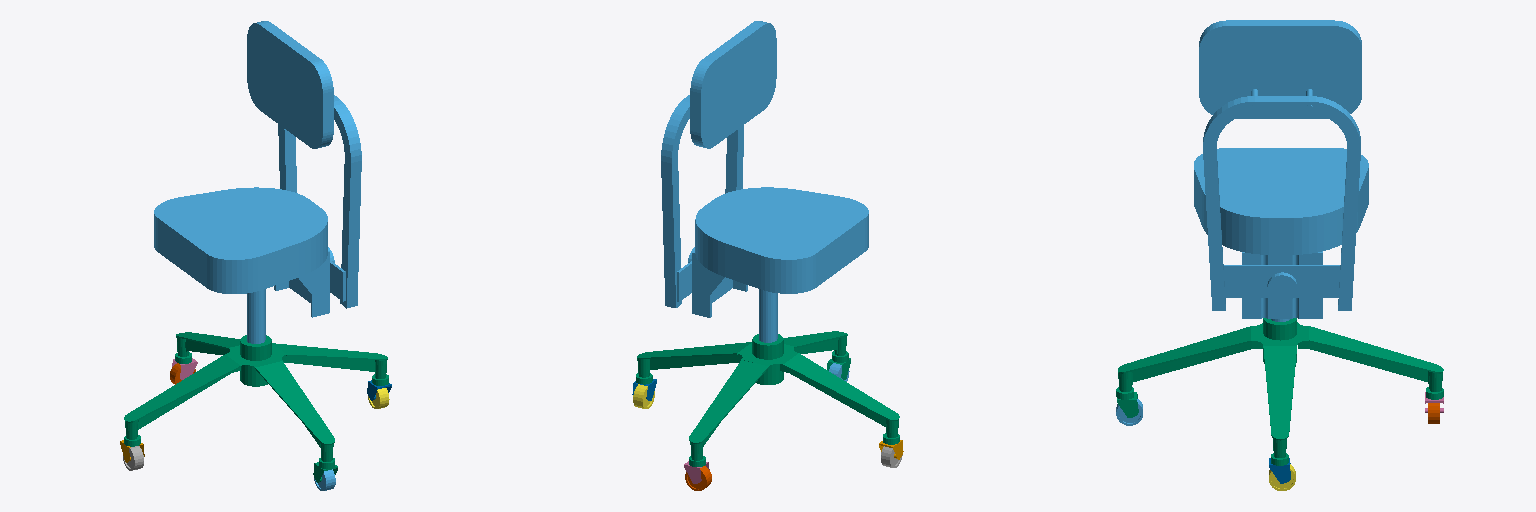
URDF robot description (partnet_c2220851bf50eda931ecc34700496180):
<?xml version="1.0" ?>
<robot name="partnet_c2220851bf50eda931ecc34700496180">
	<link name="base"/>
	<link name="link_0">
		<visual name="wheel-24">
			<origin xyz="-0.5566435548484837 0.7812046901411421 0"/>
			<geometry>
				<mesh filename="textured_objs/original-16.obj"/>
			</geometry>
		</visual>
		<collision>
			<origin xyz="-0.5566435548484837 0.7812046901411421 0"/>
			<geometry>
				<mesh filename="textured_objs/original-16.obj"/>
			</geometry>
		</collision>
	</link>
	<joint name="joint_0" type="continuous">
		<origin xyz="-0.006785945151516315 -0.7812046901411421 -0.0630275"/>
		<axis xyz="0 0 1"/>
		<child link="link_0"/>
		<parent link="link_1"/>
	</joint>
	<link name="link_1">
		<visual name="brake-25">
			<origin xyz="-0.5634295 0 -0.0630275"/>
			<geometry>
				<mesh filename="textured_objs/original-15.obj"/>
			</geometry>
		</visual>
		<collision>
			<origin xyz="-0.5634295 0 -0.0630275"/>
			<geometry>
				<mesh filename="textured_objs/original-15.obj"/>
			</geometry>
		</collision>
	</link>
	<joint name="joint_1" type="continuous">
		<origin xyz="0.5634295 0 0.0630275"/>
		<axis xyz="0 1 0"/>
		<child link="link_1"/>
		<parent link="link_9"/>
	</joint>
	<link name="link_2">
		<visual name="wheel-22">
			<origin xyz="0.0015374451515163413 0.7812046901411421 0"/>
			<geometry>
				<mesh filename="textured_objs/original-13.obj"/>
			</geometry>
		</visual>
		<collision>
			<origin xyz="0.0015374451515163413 0.7812046901411421 0"/>
			<geometry>
				<mesh filename="textured_objs/original-13.obj"/>
			</geometry>
		</collision>
	</link>
	<joint name="joint_2" type="continuous">
		<origin xyz="-0.006785945151516341 -0.7812046901411421 0.504838"/>
		<axis xyz="0 0 -1"/>
		<child link="link_2"/>
		<parent link="link_3"/>
	</joint>
	<link name="link_3">
		<visual name="brake-23">
			<origin xyz="-0.0052485 0 0.504838"/>
			<geometry>
				<mesh filename="textured_objs/original-12.obj"/>
			</geometry>
		</visual>
		<collision>
			<origin xyz="-0.0052485 0 0.504838"/>
			<geometry>
				<mesh filename="textured_objs/original-12.obj"/>
			</geometry>
		</collision>
	</link>
	<joint name="joint_3" type="continuous">
		<origin xyz="0.0052485 0 -0.504838"/>
		<axis xyz="0 -1 0"/>
		<child link="link_3"/>
		<parent link="link_9"/>
	</joint>
	<link name="link_4">
		<visual name="wheel-20">
			<origin xyz="-9.550437571778905e-06 0.7812053857166755 -0.06679501521683152"/>
			<geometry>
				<mesh filename="textured_objs/original-19.obj"/>
			</geometry>
		</visual>
		<collision>
			<origin xyz="-9.550437571778905e-06 0.7812053857166755 -0.06679501521683152"/>
			<geometry>
				<mesh filename="textured_objs/original-19.obj"/>
			</geometry>
		</collision>
	</link>
	<joint name="joint_4" type="continuous">
		<origin xyz="0.5583032057838805 -0.7812053857166755 0.0067003867958505756"/>
		<axis xyz="0.999999988222822 -8.969524975814682e-07 -0.0001534716636639214"/>
		<child link="link_4"/>
		<parent link="link_5"/>
	</joint>
	<link name="link_5">
		<visual name="brake-21">
			<origin xyz="0.5582936553463087 0 -0.06009462842098095"/>
			<geometry>
				<mesh filename="textured_objs/original-18.obj"/>
			</geometry>
		</visual>
		<collision>
			<origin xyz="0.5582936553463087 0 -0.06009462842098095"/>
			<geometry>
				<mesh filename="textured_objs/original-18.obj"/>
			</geometry>
		</collision>
	</link>
	<joint name="joint_5" type="continuous">
		<origin xyz="-0.5582936553463087 0 0.06009462842098095"/>
		<axis xyz="0 -1 0"/>
		<child link="link_5"/>
		<parent link="link_9"/>
	</joint>
	<link name="link_6">
		<visual name="wheel-18">
			<origin xyz="-0.021645792247604722 0.7812038141193224 -0.000340501930849679"/>
			<geometry>
				<mesh filename="textured_objs/original-7.obj"/>
			</geometry>
		</visual>
		<collision>
			<origin xyz="-0.021645792247604722 0.7812038141193224 -0.000340501930849679"/>
			<geometry>
				<mesh filename="textured_objs/original-7.obj"/>
			</geometry>
		</collision>
	</link>
	<joint name="joint_6" type="continuous">
		<origin xyz="0.01661785328998116 -0.7812038141193224 -0.6231495696056649"/>
		<axis xyz="-0.01577394832546562 -1.254568322872312e-06 0.9998755835365978"/>
		<child link="link_6"/>
		<parent link="link_7"/>
	</joint>
	<link name="link_7">
		<visual name="brake-19">
			<origin xyz="-0.005027938957623561 0 -0.6234900715365146"/>
			<geometry>
				<mesh filename="textured_objs/original-6.obj"/>
			</geometry>
		</visual>
		<collision>
			<origin xyz="-0.005027938957623561 0 -0.6234900715365146"/>
			<geometry>
				<mesh filename="textured_objs/original-6.obj"/>
			</geometry>
		</collision>
	</link>
	<joint name="joint_7" type="continuous">
		<origin xyz="0.005027938957623561 0 0.6234900715365146"/>
		<axis xyz="0 -1 0"/>
		<child link="link_7"/>
		<parent link="link_9"/>
	</joint>
	<link name="link_8">
		<visual name="seat_soft_surface-31">
			<origin xyz="-0.005899999999999999 0 -0.05935599999999999"/>
			<geometry>
				<mesh filename="textured_objs/original-25.obj"/>
			</geometry>
		</visual>
		<visual name="back_holistic_frame-34">
			<origin xyz="-0.005899999999999999 0 -0.05935599999999999"/>
			<geometry>
				<mesh filename="textured_objs/new-2.obj"/>
			</geometry>
		</visual>
		<visual name="back_connector-33">
			<origin xyz="-0.005899999999999999 0 -0.05935599999999999"/>
			<geometry>
				<mesh filename="textured_objs/original-23.obj"/>
			</geometry>
		</visual>
		<visual name="back_connector-33">
			<origin xyz="-0.005899999999999999 0 -0.05935599999999999"/>
			<geometry>
				<mesh filename="textured_objs/original-24.obj"/>
			</geometry>
		</visual>
		<visual name="central_support-5">
			<origin xyz="-0.005899999999999999 0 -0.05935599999999999"/>
			<geometry>
				<mesh filename="textured_objs/new-0.obj"/>
			</geometry>
		</visual>
		<visual name="seat_connector-8">
			<origin xyz="-0.005899999999999999 0 -0.05935599999999999"/>
			<geometry>
				<mesh filename="textured_objs/original-4.obj"/>
			</geometry>
		</visual>
		<visual name="headrest-36">
			<origin xyz="-0.005899999999999999 0 -0.05935599999999999"/>
			<geometry>
				<mesh filename="textured_objs/new-5.obj"/>
			</geometry>
		</visual>
		<visual name="head_connector-37">
			<origin xyz="-0.005899999999999999 0 -0.05935599999999999"/>
			<geometry>
				<mesh filename="textured_objs/new-3.obj"/>
			</geometry>
		</visual>
		<visual name="head_connector-38">
			<origin xyz="-0.005899999999999999 0 -0.05935599999999999"/>
			<geometry>
				<mesh filename="textured_objs/new-4.obj"/>
			</geometry>
		</visual>
		<collision>
			<origin xyz="-0.005899999999999999 0 -0.05935599999999999"/>
			<geometry>
				<mesh filename="textured_objs/original-25.obj"/>
			</geometry>
		</collision>
		<collision>
			<origin xyz="-0.005899999999999999 0 -0.05935599999999999"/>
			<geometry>
				<mesh filename="textured_objs/new-2.obj"/>
			</geometry>
		</collision>
		<collision>
			<origin xyz="-0.005899999999999999 0 -0.05935599999999999"/>
			<geometry>
				<mesh filename="textured_objs/original-23.obj"/>
			</geometry>
		</collision>
		<collision>
			<origin xyz="-0.005899999999999999 0 -0.05935599999999999"/>
			<geometry>
				<mesh filename="textured_objs/original-24.obj"/>
			</geometry>
		</collision>
		<collision>
			<origin xyz="-0.005899999999999999 0 -0.05935599999999999"/>
			<geometry>
				<mesh filename="textured_objs/new-0.obj"/>
			</geometry>
		</collision>
		<collision>
			<origin xyz="-0.005899999999999999 0 -0.05935599999999999"/>
			<geometry>
				<mesh filename="textured_objs/original-4.obj"/>
			</geometry>
		</collision>
		<collision>
			<origin xyz="-0.005899999999999999 0 -0.05935599999999999"/>
			<geometry>
				<mesh filename="textured_objs/new-5.obj"/>
			</geometry>
		</collision>
		<collision>
			<origin xyz="-0.005899999999999999 0 -0.05935599999999999"/>
			<geometry>
				<mesh filename="textured_objs/new-3.obj"/>
			</geometry>
		</collision>
		<collision>
			<origin xyz="-0.005899999999999999 0 -0.05935599999999999"/>
			<geometry>
				<mesh filename="textured_objs/new-4.obj"/>
			</geometry>
		</collision>
	</link>
	<joint name="joint_8" type="continuous">
		<origin xyz="0.0 0 0.0"/>
		<axis xyz="0 1 0"/>
		<child link="link_8"/>
		<parent link="link_8_helper"/>
	</joint>
	<link name="link_9">
		<visual name="central_support-6">
			<origin xyz="0 0 0"/>
			<geometry>
				<mesh filename="textured_objs/new-1.obj"/>
			</geometry>
		</visual>
		<visual name="leg-26">
			<origin xyz="0 0 0"/>
			<geometry>
				<mesh filename="textured_objs/original-9.obj"/>
			</geometry>
		</visual>
		<visual name="leg-27">
			<origin xyz="0 0 0"/>
			<geometry>
				<mesh filename="textured_objs/original-22.obj"/>
			</geometry>
		</visual>
		<visual name="leg-28">
			<origin xyz="0 0 0"/>
			<geometry>
				<mesh filename="textured_objs/original-10.obj"/>
			</geometry>
		</visual>
		<visual name="leg-29">
			<origin xyz="0 0 0"/>
			<geometry>
				<mesh filename="textured_objs/original-21.obj"/>
			</geometry>
		</visual>
		<collision>
			<origin xyz="0 0 0"/>
			<geometry>
				<mesh filename="textured_objs/new-1.obj"/>
			</geometry>
		</collision>
		<collision>
			<origin xyz="0 0 0"/>
			<geometry>
				<mesh filename="textured_objs/original-9.obj"/>
			</geometry>
		</collision>
		<collision>
			<origin xyz="0 0 0"/>
			<geometry>
				<mesh filename="textured_objs/original-22.obj"/>
			</geometry>
		</collision>
		<collision>
			<origin xyz="0 0 0"/>
			<geometry>
				<mesh filename="textured_objs/original-10.obj"/>
			</geometry>
		</collision>
		<collision>
			<origin xyz="0 0 0"/>
			<geometry>
				<mesh filename="textured_objs/original-21.obj"/>
			</geometry>
		</collision>
	</link>
	<joint name="joint_9" type="fixed">
		<origin rpy="1.570796326794897 0 -1.570796326794897" xyz="0 0 0"/>
		<child link="link_9"/>
		<parent link="base"/>
	</joint>
	<link name="link_8_helper"/>
	<joint name="joint_10" type="prismatic">
		<origin xyz="0.005899999999999999 0 0.05935599999999999"/>
		<axis xyz="0 -1 0"/>
		<child link="link_8_helper"/>
		<parent link="link_9"/>
		<limit lower="0" upper="0.15"/>
	</joint>
</robot>

--- Facts derived from the render (not from the file) ---
Views: 3 orthographic renders of the robot side by side, from view 1: azimuth 30°, elevation 25°; view 2: azimuth 150°, elevation 25°; view 3: azimuth 270°, elevation 25°.
Robot: partnet_c2220851bf50eda931ecc34700496180 — 12 links, 11 joints (9 continuous, 1 prismatic, 1 fixed); root link base; default pose: all joints at 0.
Links seen in each view (by area): view 1: link_8, link_9; view 2: link_8, link_9; view 3: link_8, link_9.
Link boxes in pixels (bbox=[...]): link_8: bbox=[154, 21, 361, 343]; link_9: bbox=[124, 332, 388, 468]; link_8: bbox=[661, 21, 868, 342]; link_9: bbox=[636, 331, 899, 466]; link_8: bbox=[1194, 20, 1368, 321]; link_9: bbox=[1116, 318, 1443, 465].
Bounding box of the posed robot: 1.2 × 1.2 × 1.69 m (x, y, z).
Meshes: 22 distinct files referenced, 22 mesh visuals loaded (22 OBJ).
